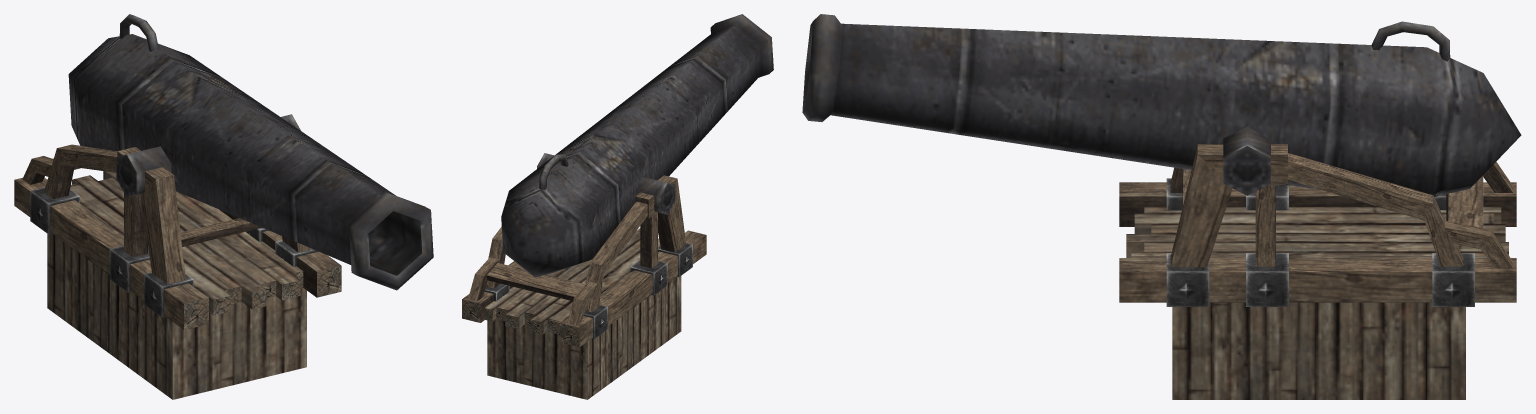
File: SC_yonghengsenlin_17.FBX
3 views of the same model, side by side, from view 1: azimuth 30°, elevation 25°; view 2: azimuth 150°, elevation 25°; view 3: azimuth 270°, elevation 25° (orthographic). The views are drawn at different scales.
Visible parts, largest first — view 1: SC_yonghengsenlin_17; view 2: SC_yonghengsenlin_17; view 3: SC_yonghengsenlin_17.
Boxes of the visible parts, x1=… form: SC_yonghengsenlin_17: x1=14, y1=14, x2=433, y2=399; SC_yonghengsenlin_17: x1=462, y1=14, x2=773, y2=399; SC_yonghengsenlin_17: x1=802, y1=14, x2=1521, y2=399.
Bounding box in the file's own units: 119 × 205 × 384.
